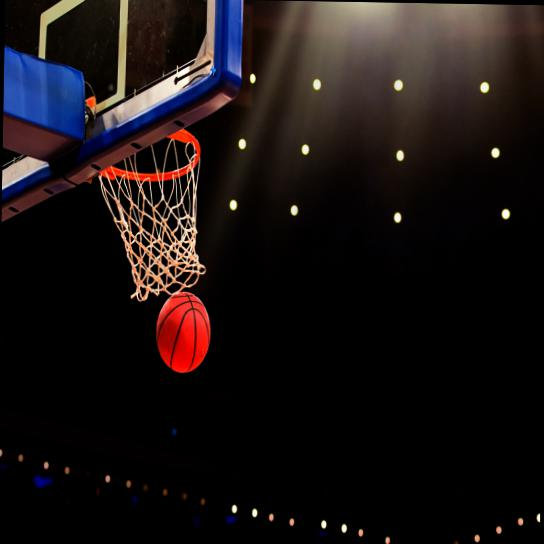basketball-hoop: (88, 117, 208, 304)
